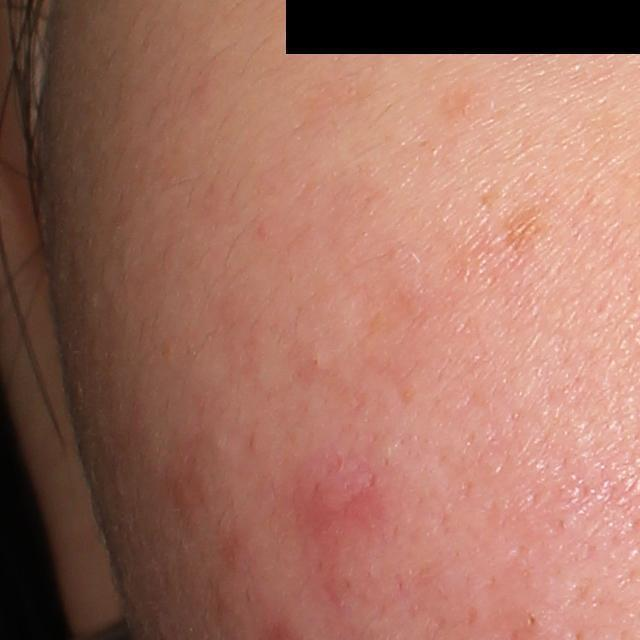melasma: (438, 83, 490, 128), (505, 212, 549, 260)
papule: (287, 445, 387, 558)
